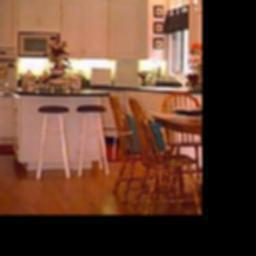Armario: (0, 0, 16, 142)
Lavaplatos: (138, 66, 189, 94)
